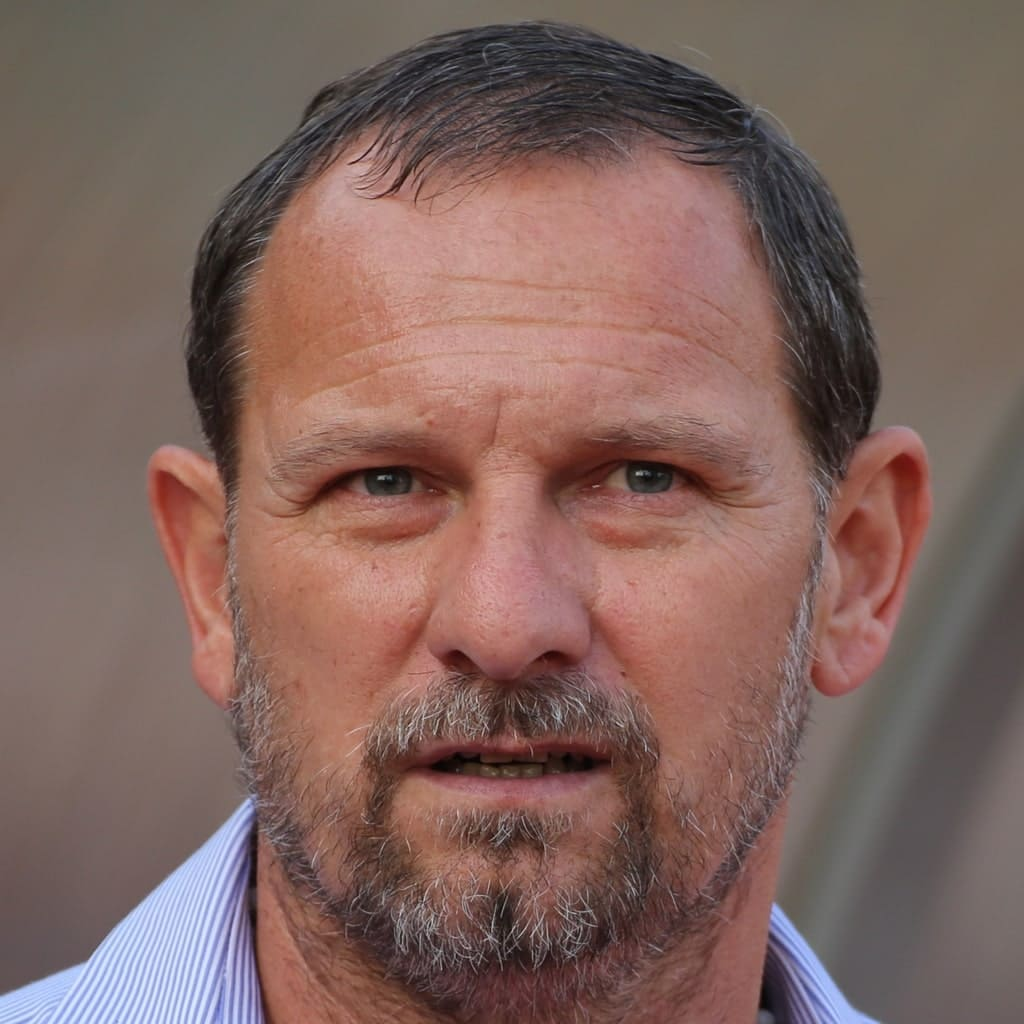without_mask: (250, 339, 787, 878)
